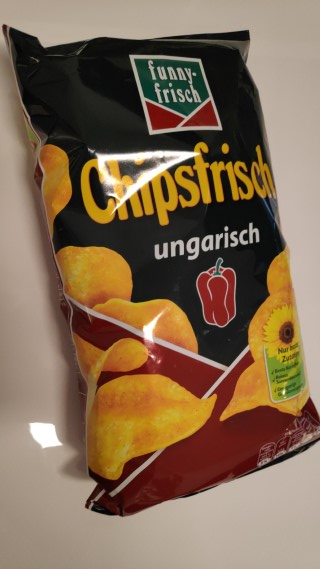chipsfrisch: (1, 22, 320, 519)
